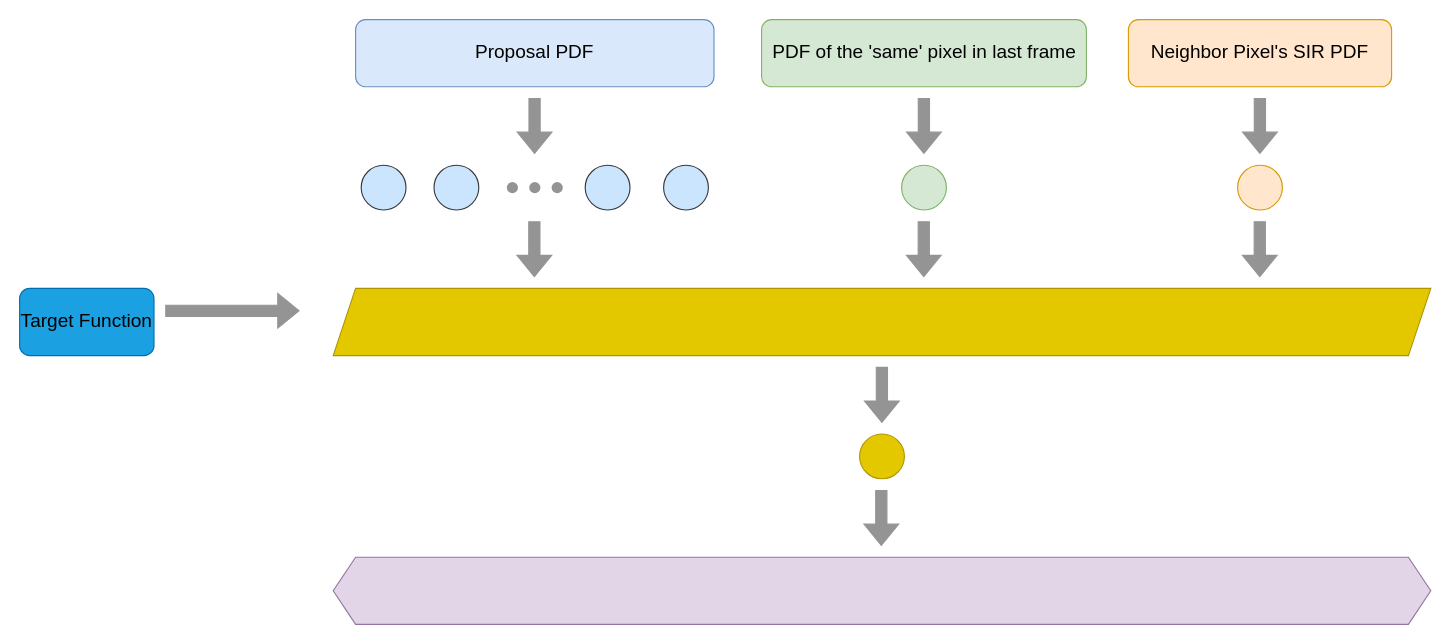
This 1450x644 diagram has some shape labels left out. The centre of each missing label's shape, as x and y in pixels:
"Picking a target sample from proposal sample set" goes at pixel 881 321.
"RIS Estimator" goes at pixel 881 590.
